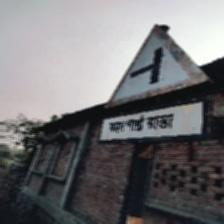Side-road-left: (105, 24, 211, 141)
